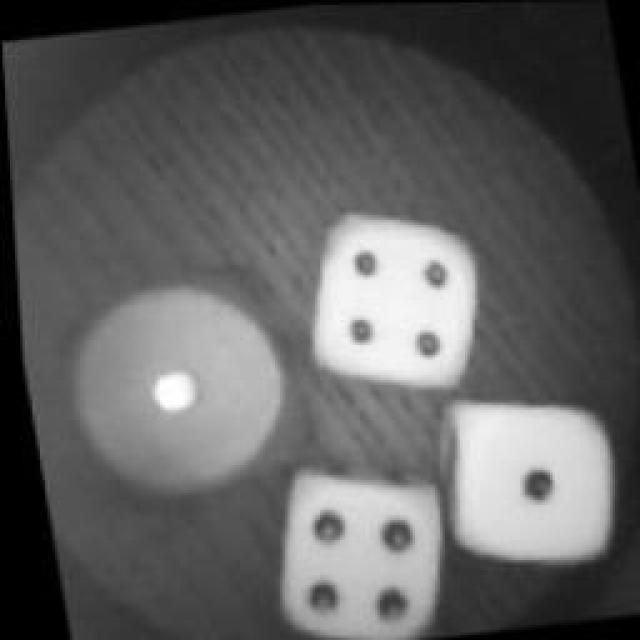dice_1: (38, 255, 310, 520), (421, 384, 624, 581)
dice_4: (285, 202, 493, 402), (255, 447, 470, 640)
